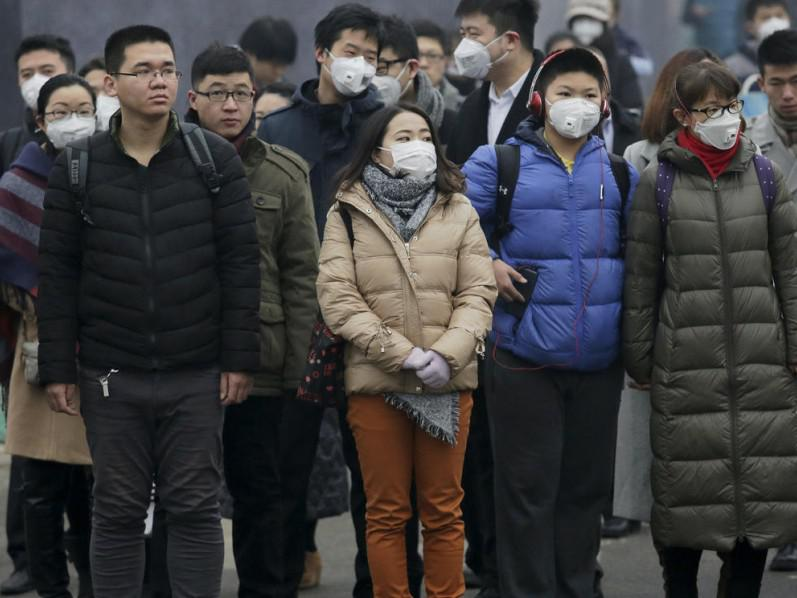NONE: (119, 57, 176, 117), (203, 81, 256, 138), (764, 67, 797, 120)
OK: (455, 17, 515, 77), (547, 82, 603, 138), (333, 40, 387, 94), (693, 99, 745, 151), (382, 126, 434, 178), (44, 99, 93, 148), (17, 64, 64, 111), (752, 8, 794, 47), (572, 14, 607, 48)
